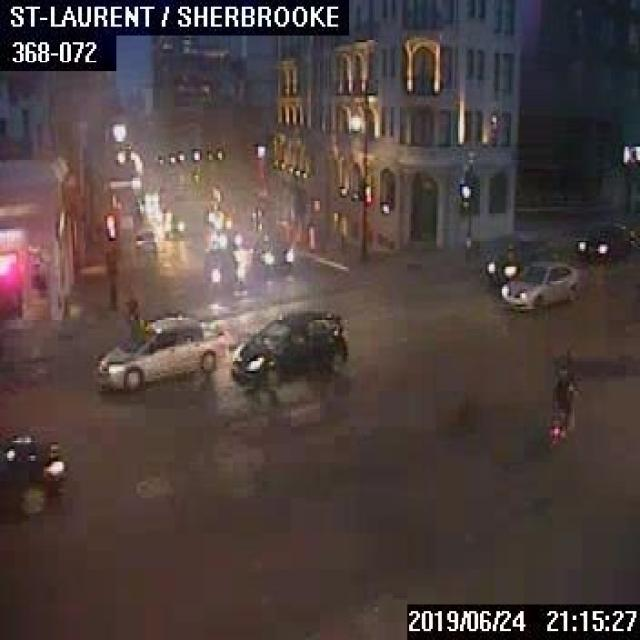cyclist: (546, 355, 576, 449)
pedestrian: (126, 291, 138, 336)
vehicle: (96, 314, 216, 390), (230, 308, 348, 382), (0, 431, 62, 520), (500, 259, 580, 309), (482, 240, 548, 283), (574, 222, 631, 260), (200, 244, 240, 283), (250, 237, 292, 270), (163, 211, 183, 236), (132, 227, 154, 249)
